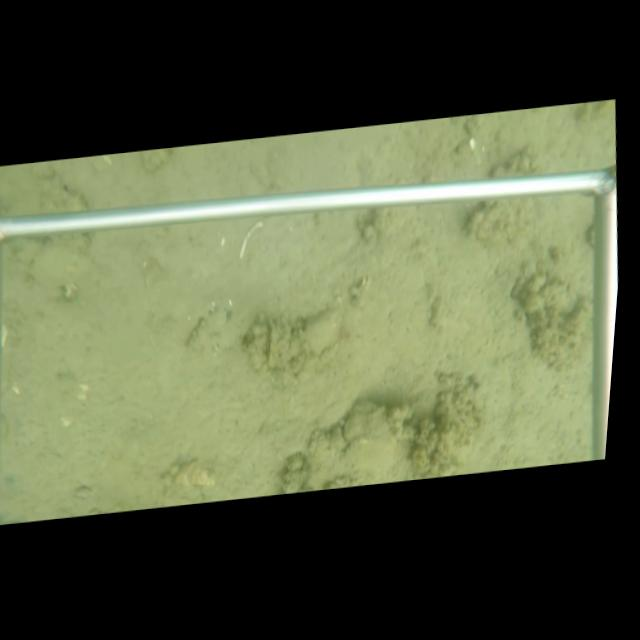Oyster-Closed: (267, 320, 280, 371)
Oyster-Indeterminate: (186, 299, 227, 352)
